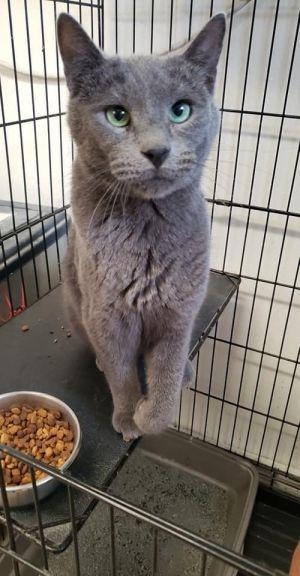rblue: (36, 1, 252, 234)
